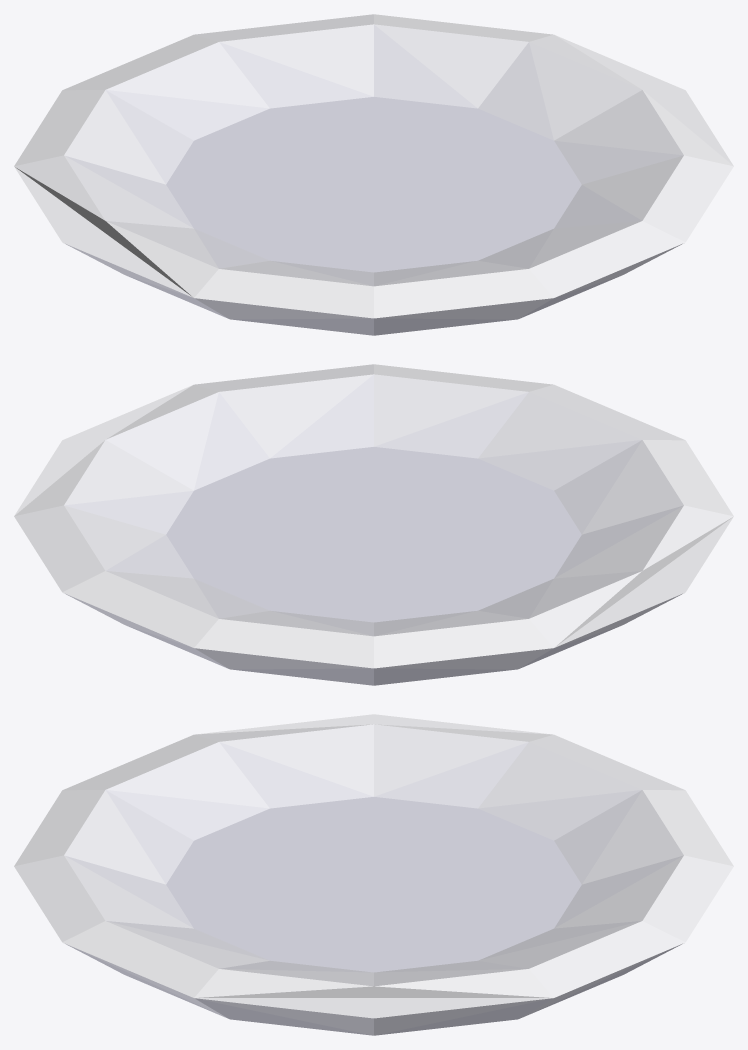
The model's file is plate_vita.obj.
3 renders of one model, top to bottom at view 1: azimuth 30°, elevation 25°; view 2: azimuth 150°, elevation 25°; view 3: azimuth 270°, elevation 25°, orthographic.
Size of the model in its own units: 0.8918 by 0.08 by 0.8918.
1 material, 1 textured.
